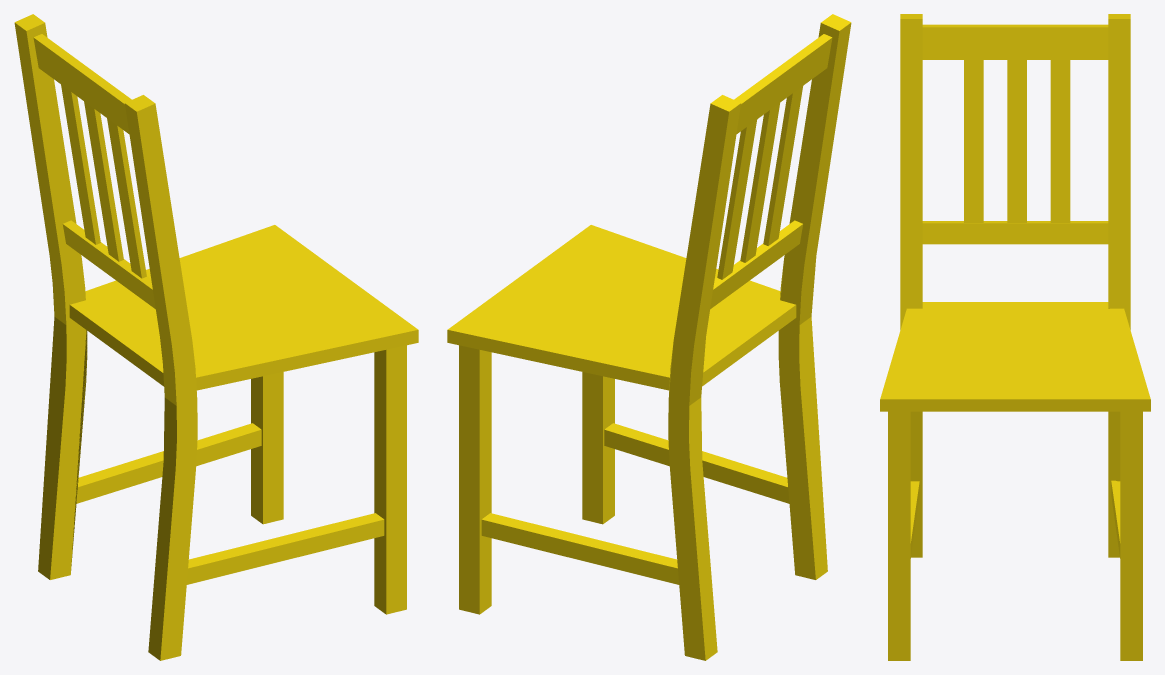
File: s_sandalye.obj
3 renders of one model, left to right at view 1: azimuth 30°, elevation 25°; view 2: azimuth 150°, elevation 25°; view 3: azimuth 270°, elevation 25°, orthographic. The views are drawn at different scales.
Visible parts, largest first — view 1: Cube.134_m_yellow; view 2: Cube.134_m_yellow; view 3: Cube.134_m_yellow.
Part boxes in pixels (x1,y1,x2,y2): Cube.134_m_yellow: [14, 14, 418, 660]; Cube.134_m_yellow: [447, 14, 851, 660]; Cube.134_m_yellow: [880, 14, 1150, 660].
Bounding box in the file's own units: 6.44 × 12.73 × 5.9.
